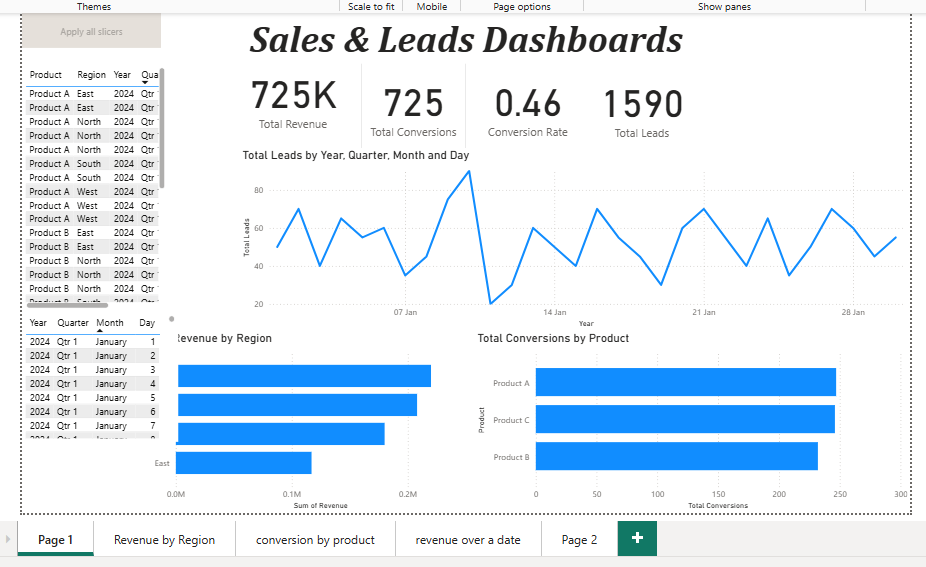

The dashboard page shown, as its layout file describes it:
{"tool":"powerbi","page":{"name":"Page 1","canvas":[1280,720],"ordinal":0},"visuals":[{"type":"card","fields":{"Values":["Sheet1.Total Revenue"]},"box":[312.5,67.7,155.5,108],"z":0},{"type":"card","fields":{"Values":["Sheet1.Total Leads"]},"box":[819.4,73.4,146.9,121],"z":1000},{"type":"card","fields":{"Values":["Sheet1.Total Conversions"]},"box":[488.2,67.7,151.2,129.6],"z":2000},{"type":"card","fields":{"Values":["Sheet1.Conversion Rate"]},"box":[650.9,70.6,155.5,123.8],"z":3000},{"type":"clusteredBarChart","fields":{"Y":["Sum(Sheet1.Revenue)"],"Category":["Sheet1.Region"]},"box":[155.5,457.9,502.6,262.1],"z":4000},{"type":"clusteredBarChart","fields":{"Y":["Sheet1.Total Conversions"],"Category":["Sheet1.Product"]},"box":[650.9,457.9,629.3,262.1],"z":5000},{"type":"lineChart","fields":{"Y":["Sheet1.Total Leads"],"Category":["Sheet1.Date.Variation.Date Hierarchy.Year","Sheet1.Date.Variation.Date Hierarchy.Quarter","Sheet1.Date.Variation.Date Hierarchy.Month","Sheet1.Date.Variation.Date Hierarchy.Day"]},"box":[312.5,194.4,967.7,263.5],"z":6000},{"type":"textbox","box":[0,0,1279.4,73.2],"z":7000},{"type":"actionButton","box":[0,0,200,50],"z":8000},{"type":"tableEx","fields":{"Values":["Sheet1.Date.Variation.Date Hierarchy.Year","Sheet1.Date.Variation.Date Hierarchy.Quarter","Sheet1.Date.Variation.Date Hierarchy.Month","Sheet1.Date.Variation.Date Hierarchy.Day"]},"box":[0,430.6,224.6,187.2],"z":9000},{"type":"tableEx","fields":{"Values":["Sheet1.Product","Sheet1.Region","Sheet1.Date.Variation.Date Hierarchy.Year","Sheet1.Date.Variation.Date Hierarchy.Quarter","Sheet1.Date.Variation.Date Hierarchy.Month","Sheet1.Date.Variation.Date Hierarchy.Day"]},"box":[0,73.7,211.2,357.2],"z":10000}]}

Visuals, with their boxes on the page's 1280x720 design canvas (x1, y1, x2, y2). These are canvas units, not pixel positions in the 926x567 screenshot, which may show the page scaled, cropped or inside an application window:
card - Sheet1.Total Revenue: bbox=[312, 68, 468, 176]
card - Sheet1.Total Leads: bbox=[819, 73, 966, 194]
card - Sheet1.Total Conversions: bbox=[488, 68, 639, 197]
card - Sheet1.Conversion Rate: bbox=[651, 71, 806, 194]
clusteredBarChart - Sum(Sheet1.Revenue) x Sheet1.Region: bbox=[156, 458, 658, 720]
clusteredBarChart - Sheet1.Total Conversions x Sheet1.Product: bbox=[651, 458, 1280, 720]
lineChart - Sheet1.Total Leads x Sheet1.Date.Variation.Date Hierarchy.Year: bbox=[312, 194, 1280, 458]
textbox: bbox=[0, 0, 1279, 73]
actionButton: bbox=[0, 0, 200, 50]
tableEx - Sheet1.Date.Variation.Date Hierarchy.Year x Sheet1.Date.Variation.Date Hierarchy.Quarter: bbox=[0, 431, 225, 618]
tableEx - Sheet1.Product x Sheet1.Region: bbox=[0, 74, 211, 431]
